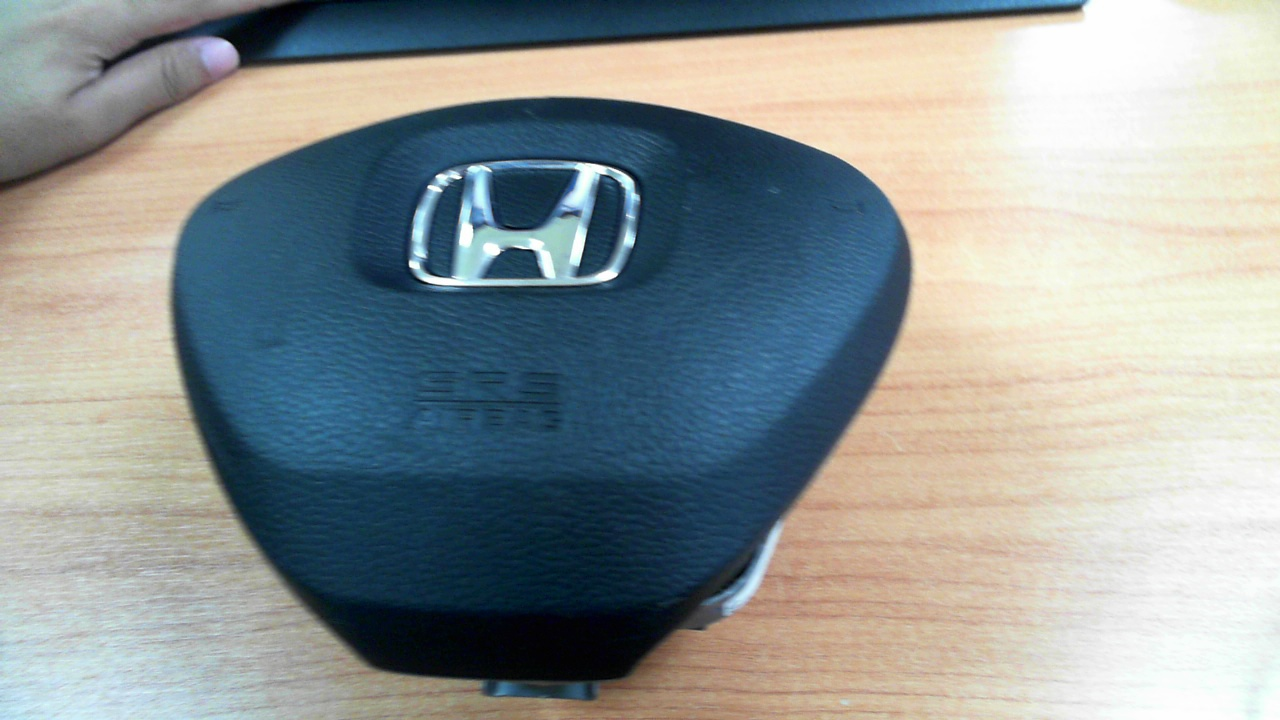Airbag: (170, 95, 912, 685)
Honda: (408, 159, 641, 293)
